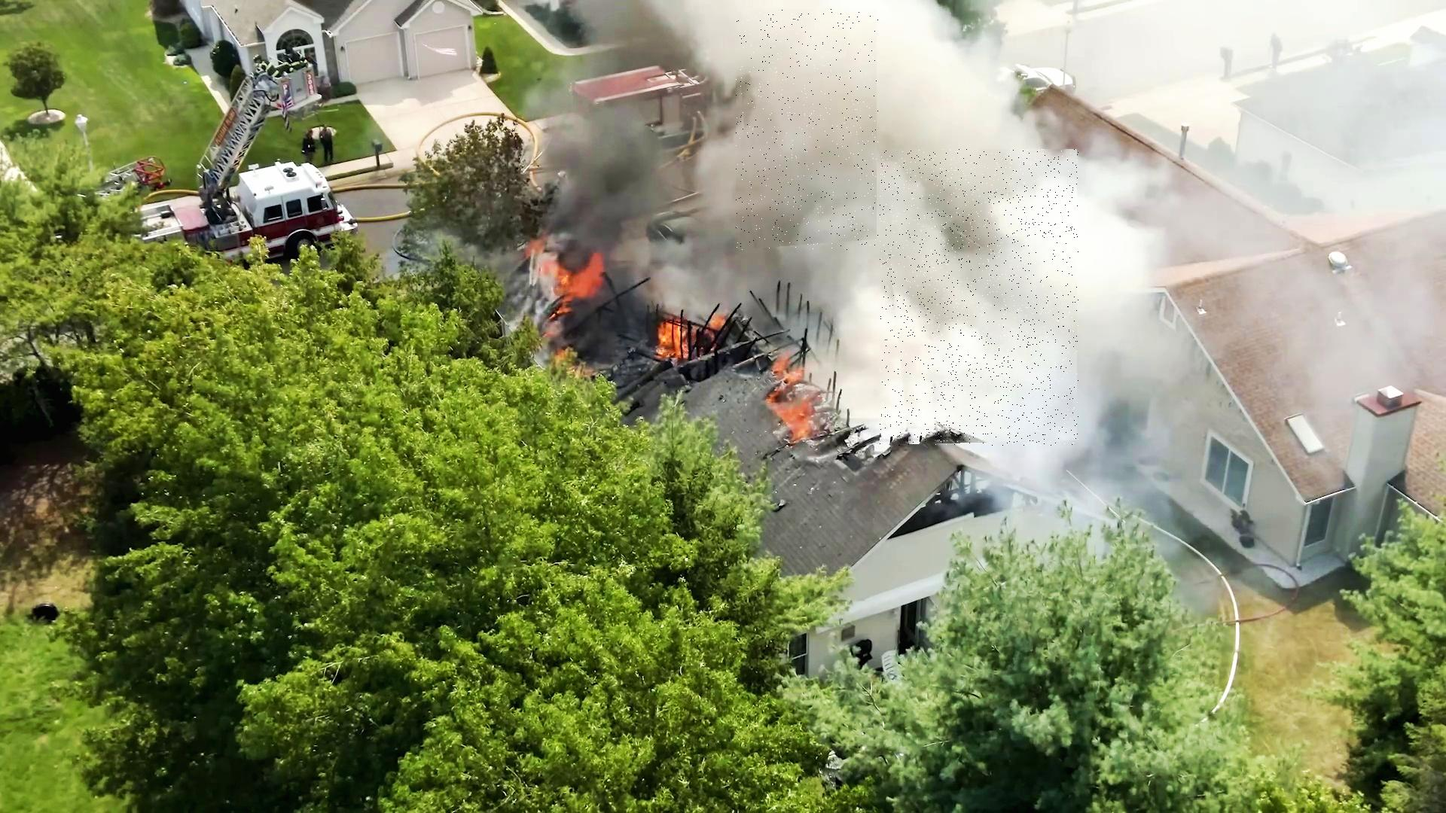smoke: (880, 150, 1079, 446), (737, 10, 879, 251)
